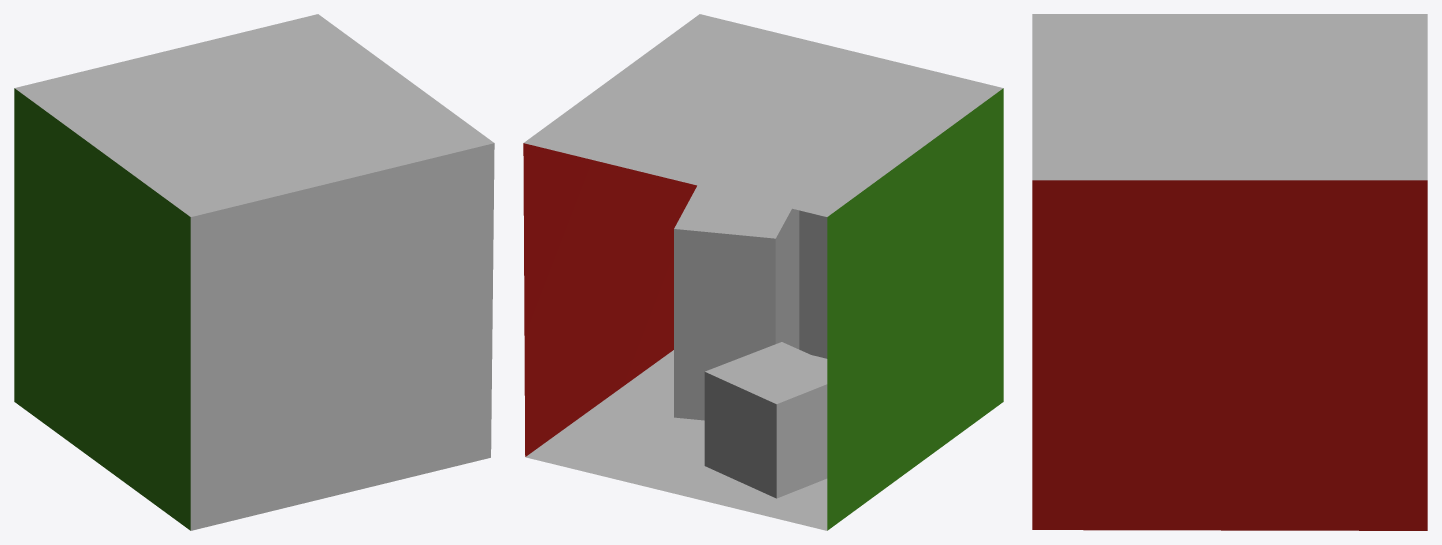
The model's file is cornell_embree_small_divs.obj.
The picture shows the model from 3 angles, left to right: view 1: azimuth 30°, elevation 25°; view 2: azimuth 150°, elevation 25°; view 3: azimuth 270°, elevation 25°; orthographic projection. The views are drawn at different scales.
Parts seen in each view (by area): view 1: back_wall, green_wall, ceiling; view 2: green_wall, ceiling, red_wall, tall_block, floor, short_block, back_wall; view 3: red_wall, ceiling.
Boxes of the visible parts, x1,y1,x2,y2 form: back_wall: (190, 143, 494, 530); green_wall: (14, 88, 190, 530); ceiling: (14, 14, 493, 216); green_wall: (827, 88, 1003, 530); ceiling: (524, 14, 1003, 216); red_wall: (523, 143, 696, 456); tall_block: (674, 185, 799, 420); floor: (525, 350, 827, 530); short_block: (704, 342, 827, 498); back_wall: (799, 210, 827, 358); red_wall: (1032, 180, 1427, 530); ceiling: (1032, 14, 1427, 180).
Size of the model in its own units: 556 by 549 by 559.
